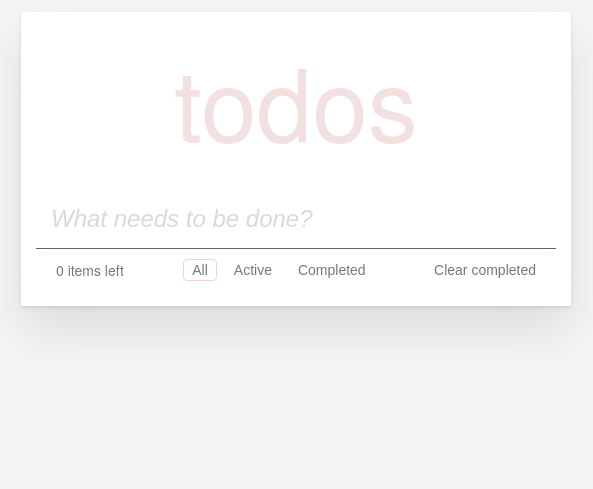
Test: ToDo App › filters completed tasks
This screenshot has width=593, height=489.
Type "Task A" into the field with placeholder "What needs to be done?" at (296, 219), box x1=36 y1=190 x2=556 y2=248
Then press Enter
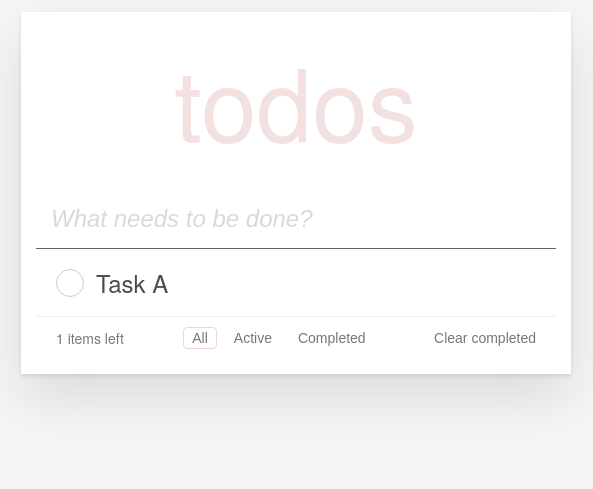
Type "Task B" into the field with placeholder "What needs to be done?" at (296, 219), box x1=36 y1=190 x2=556 y2=248
Then press Enter
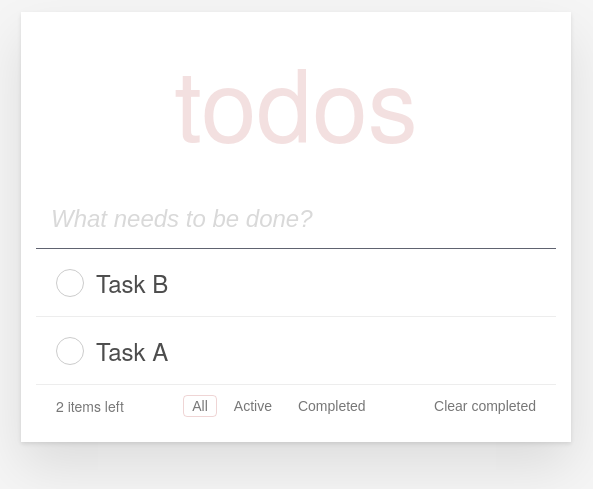
Click the list item "Task A" at (296, 351), box x1=36 y1=317 x2=556 y2=385
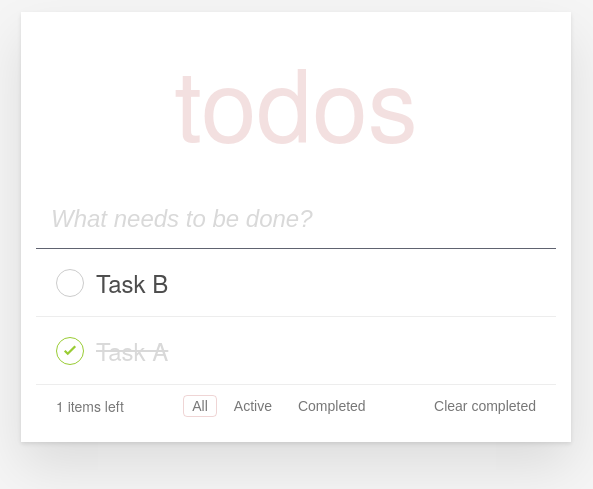
Click the button "Completed" at (332, 406), box x1=289 y1=395 x2=375 y2=417
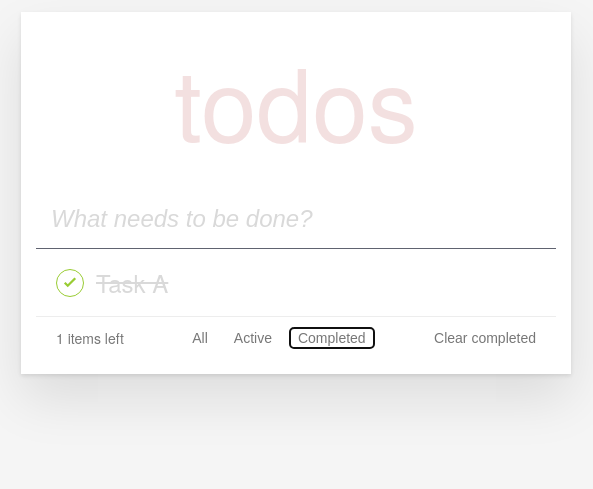
Check: the list item "Task A" is shown, box x1=36 y1=249 x2=556 y2=317
Check: the list item "Task B" is gone
